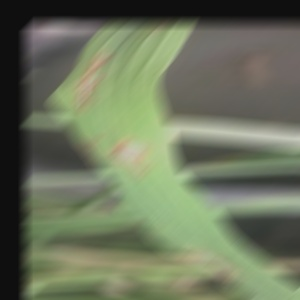Brown_Spot: (168, 246, 242, 296), (102, 135, 163, 183), (67, 64, 102, 106), (70, 133, 106, 173), (68, 48, 111, 72)
